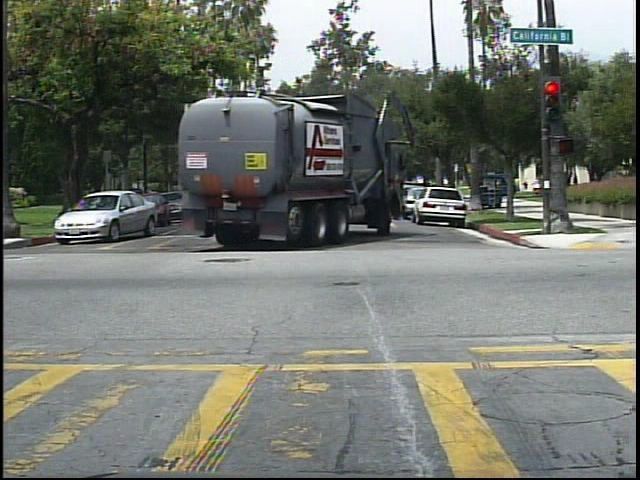person: (566, 167, 585, 198), (521, 174, 534, 193)
